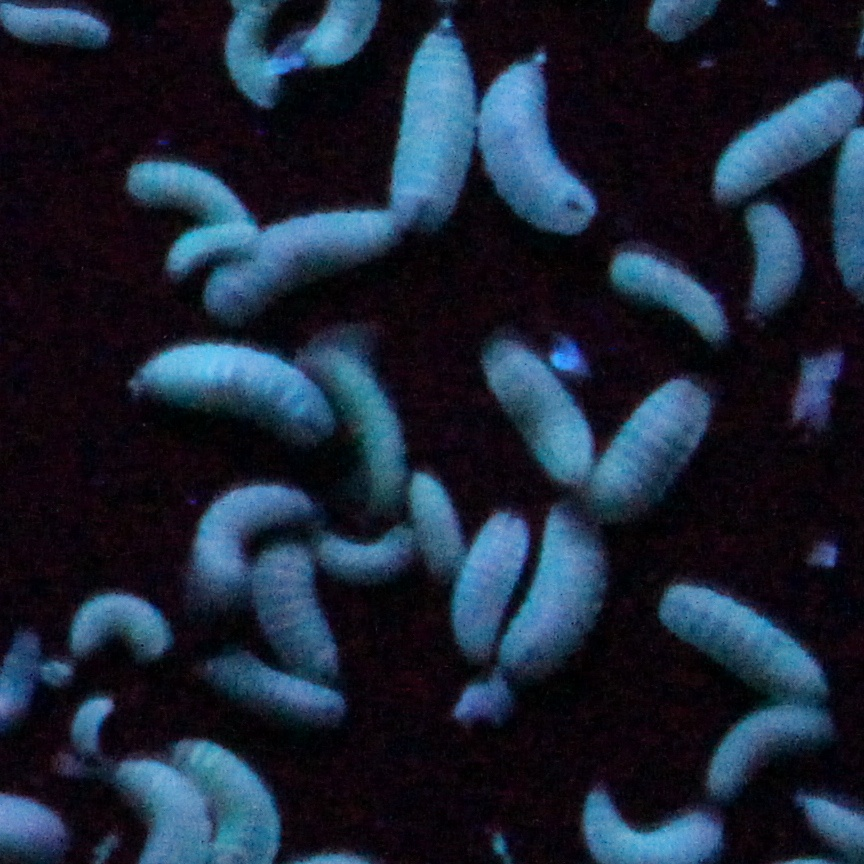larve: (211, 218, 407, 322), (486, 61, 604, 228), (662, 578, 820, 693), (505, 504, 612, 670), (590, 380, 718, 511), (392, 30, 472, 236), (719, 87, 858, 199), (310, 350, 407, 494), (148, 344, 326, 416), (489, 353, 592, 475), (195, 491, 318, 590), (452, 512, 528, 658), (710, 704, 828, 793), (111, 161, 249, 232), (256, 553, 333, 672), (205, 657, 341, 722), (610, 260, 725, 334), (75, 594, 169, 667), (221, 2, 282, 112), (305, 524, 415, 578), (756, 206, 807, 320), (413, 478, 464, 573), (164, 228, 256, 279)
